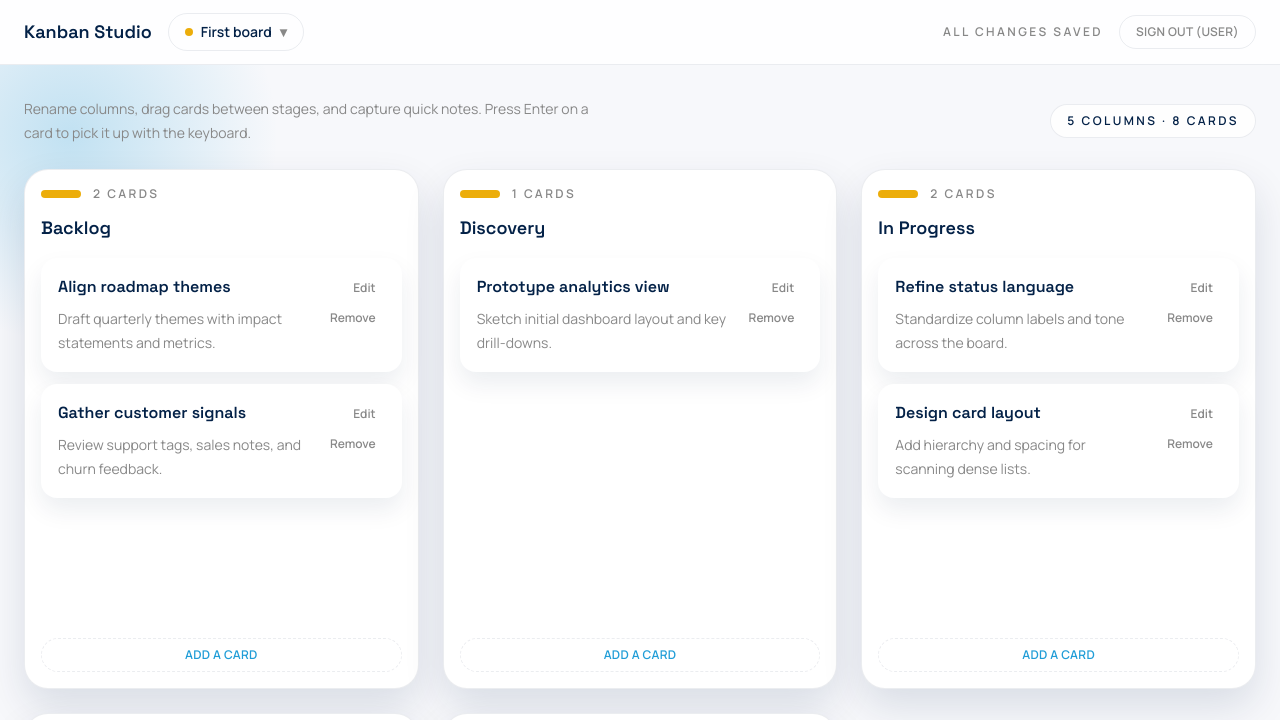
board persistence › reports a save failure instead of failing silently
expect the heading "Kanban Studio" is shown: met, box [24,18,152,46]
Replace the text in the 1st field named "Column title" with "Doomed". click: (221, 228)
box: [41,214,402,242]
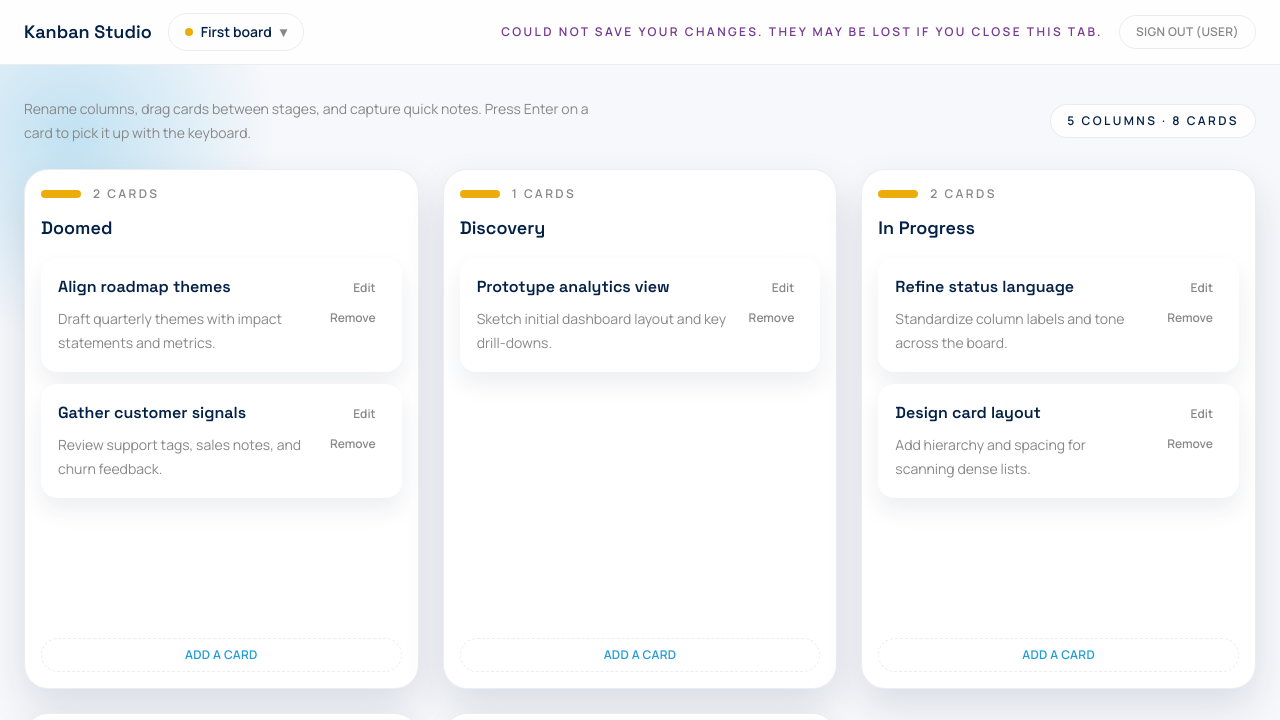
expect the text with test id "save-status" shows "Could not save your changes": met, box [501,23,1103,40]
